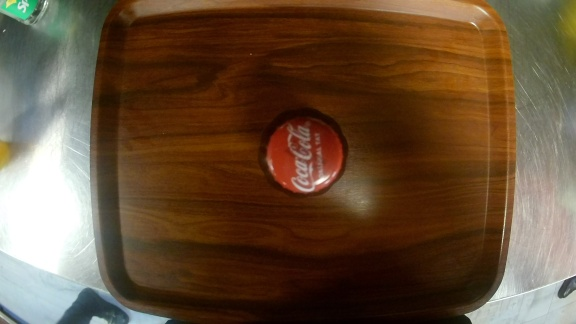camkola: (247, 106, 353, 199)
